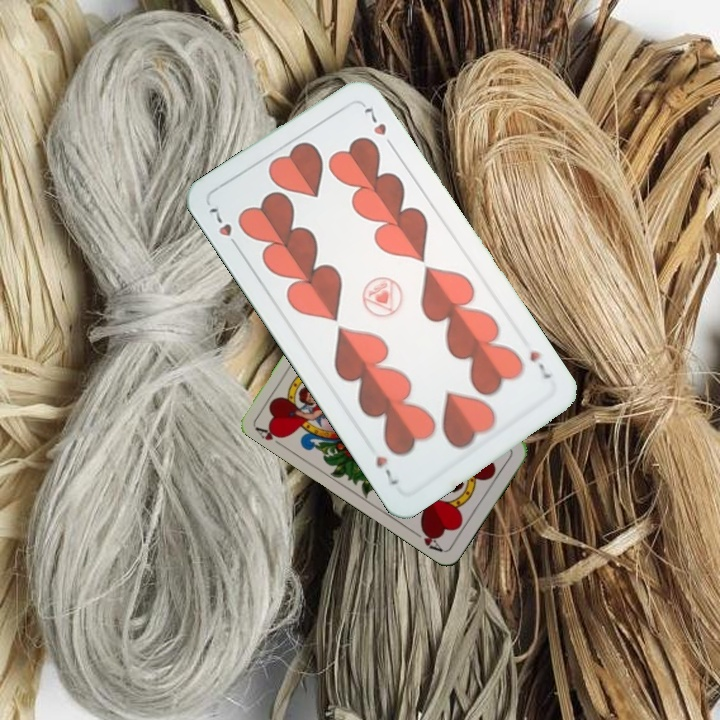H7: (205, 203, 243, 253), (525, 347, 554, 382)
HA: (251, 421, 288, 450)
